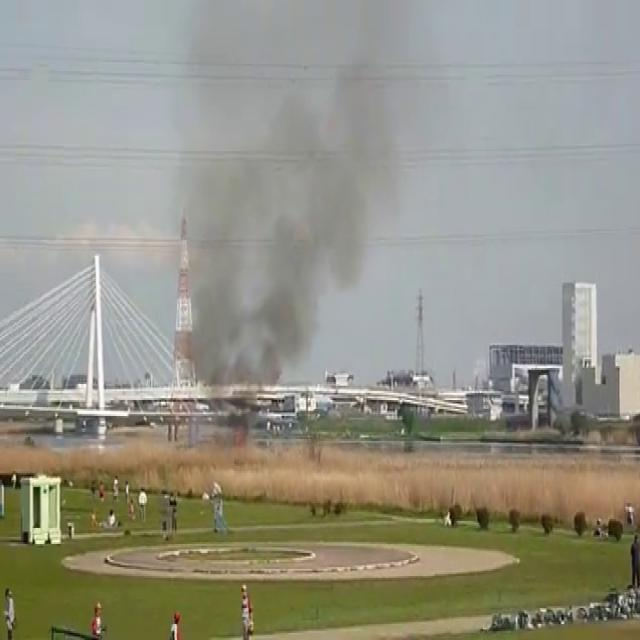Smoke: (146, 1, 416, 378)
